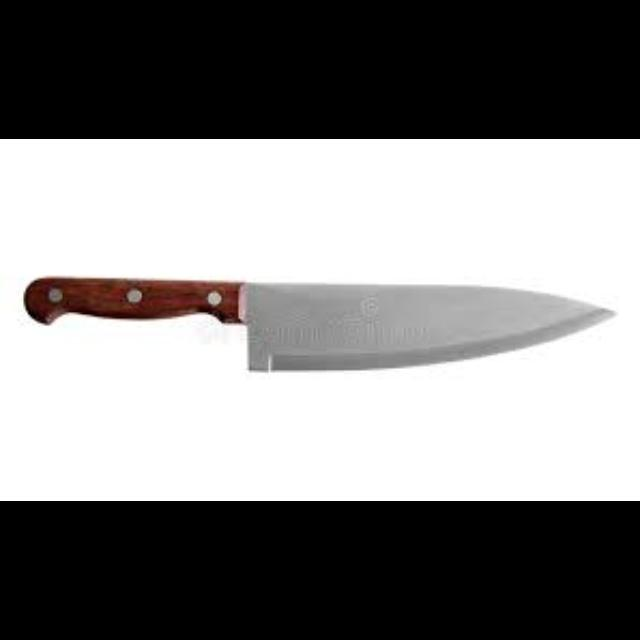Knife: (22, 275, 616, 371)
